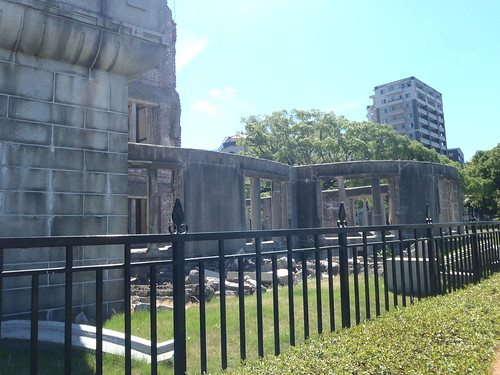building: (1, 1, 455, 256), (371, 70, 446, 147)
sky: (192, 1, 500, 95)
